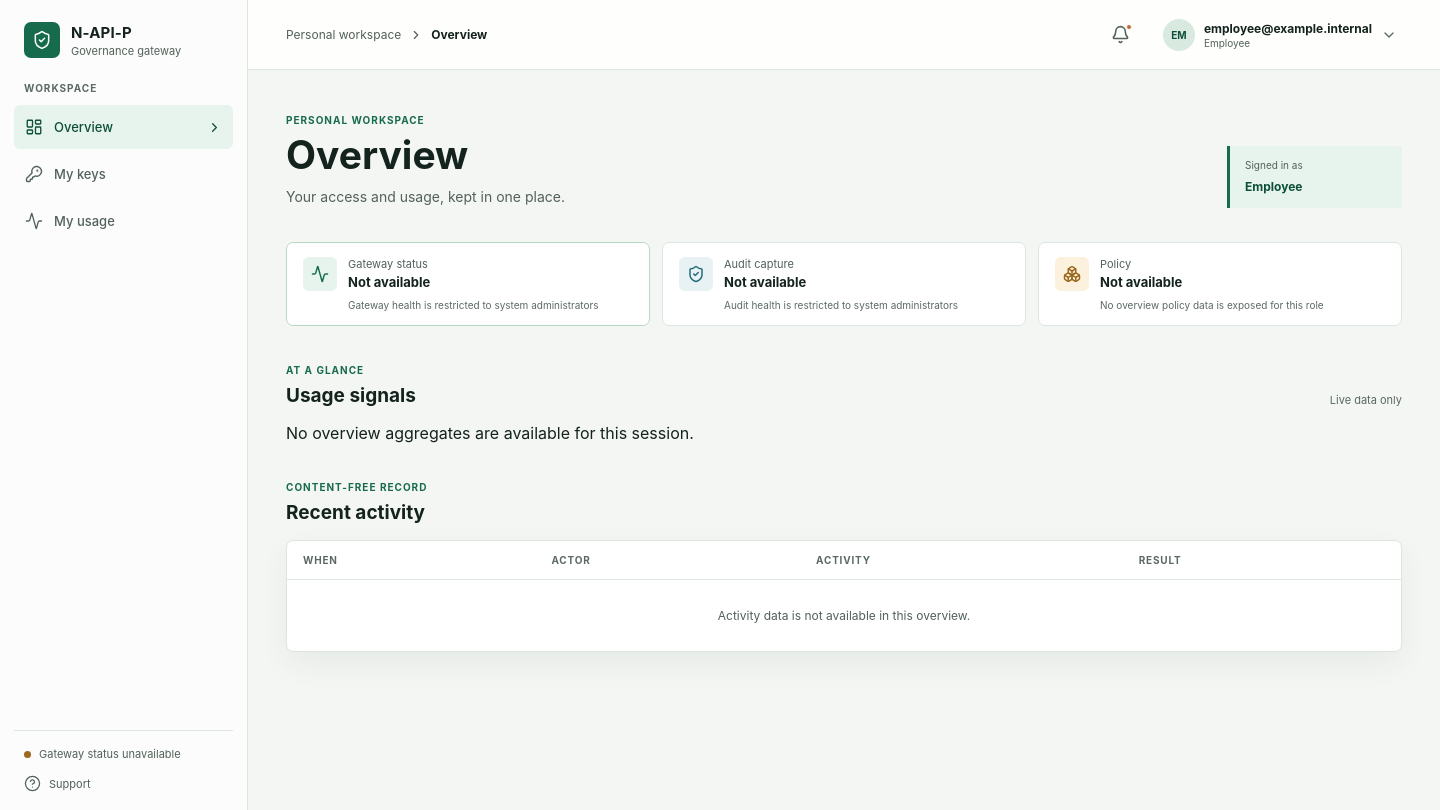
Scenario: ends the server session and returns to sign in
Expected: the text "employee@example.internal" is shown, [1204,20,1372,36]
Step 1. Click the button with aria-label "Open session details" → (1278, 34), box [1155,12,1402,56]
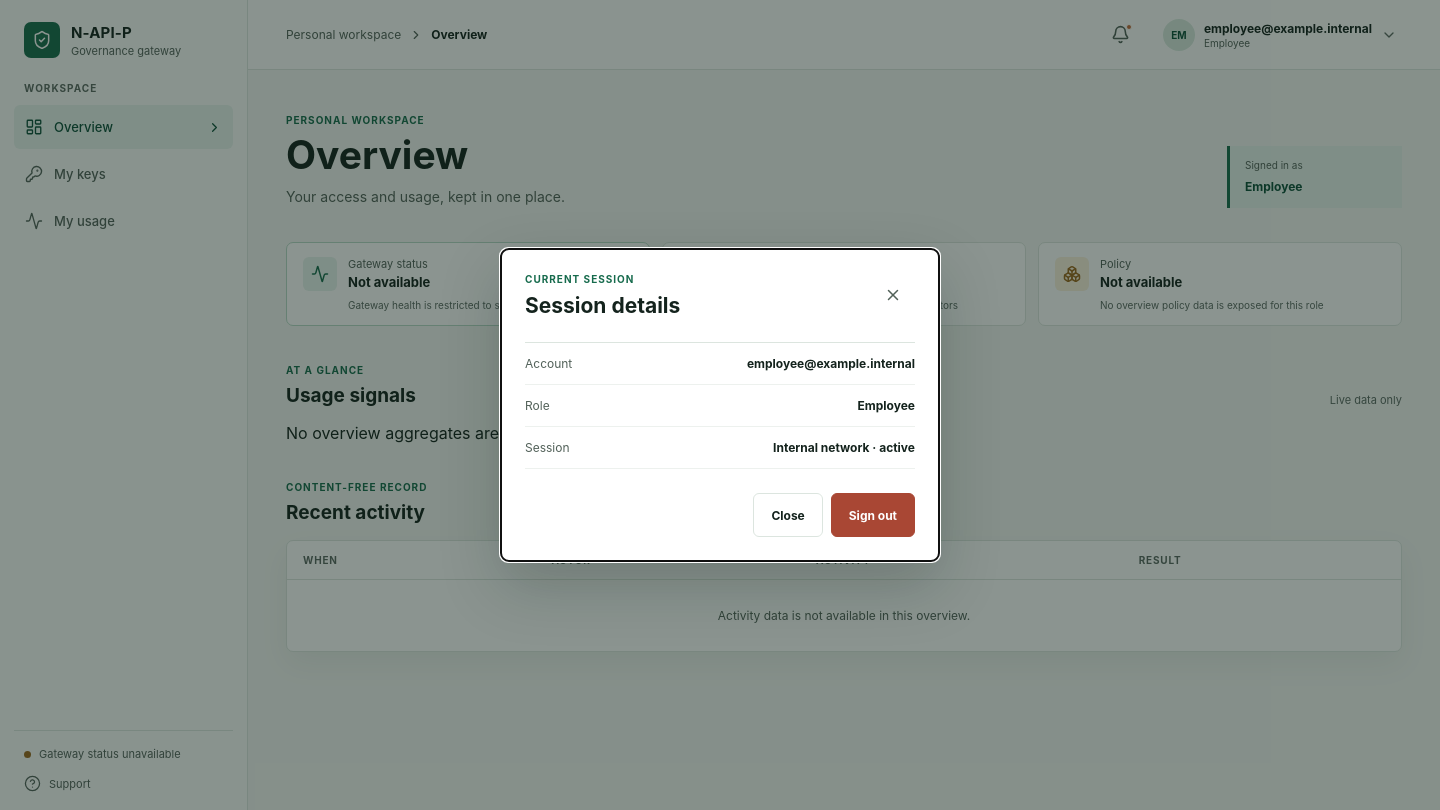
Step 2. Click the button "Sign out" → (873, 515), box [831,493,915,537]
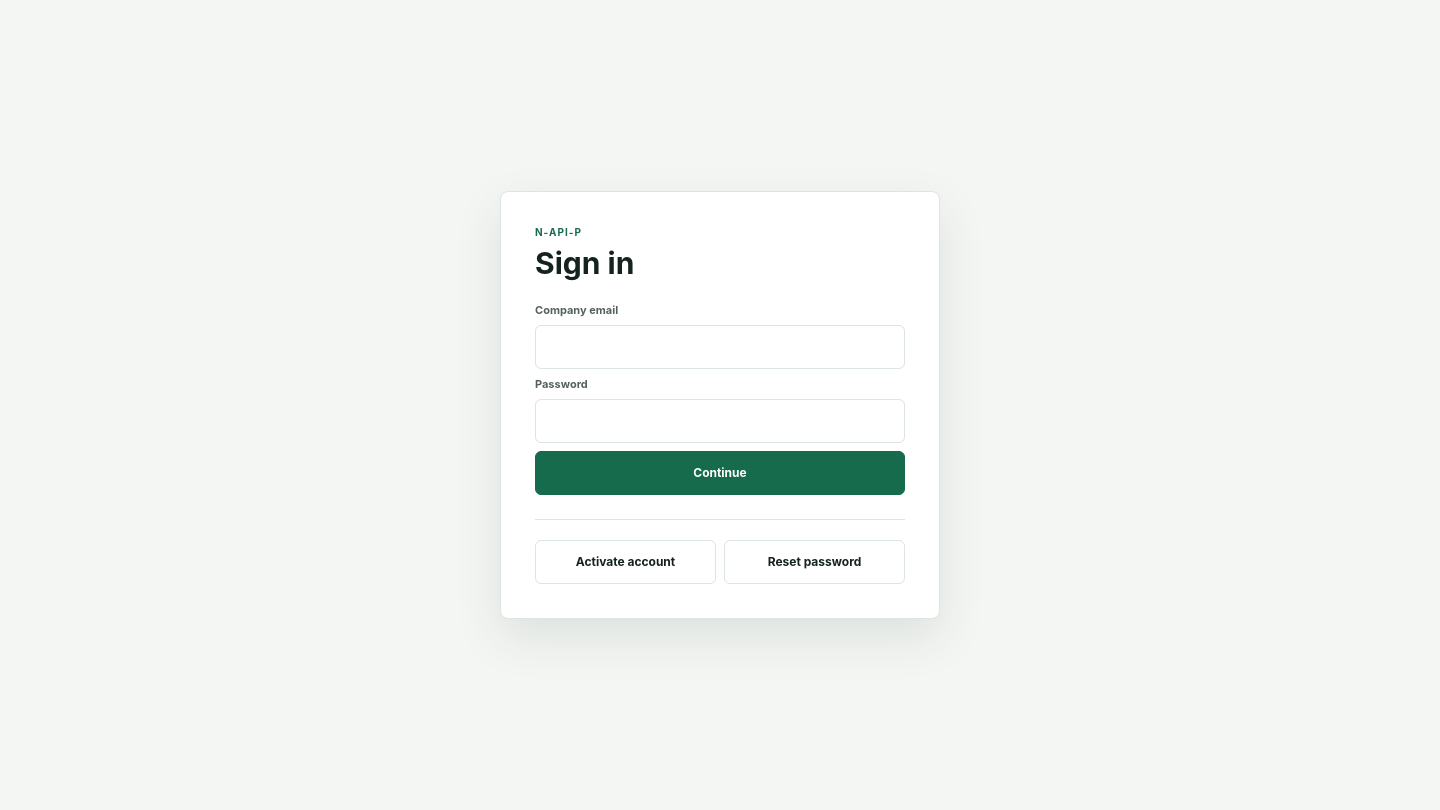
Expected: the heading "Sign in" is shown, [535,245,634,281]
